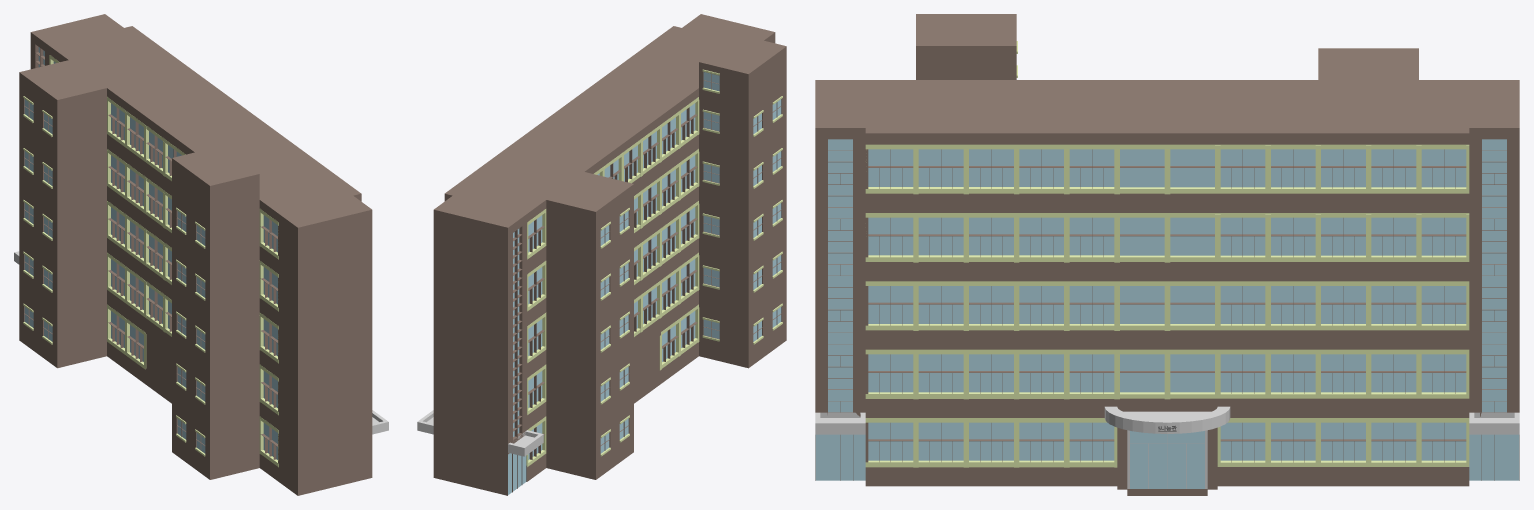
The model's file is 5building_1.glb.
3 views of the same model, side by side, from view 1: azimuth 30°, elevation 25°; view 2: azimuth 150°, elevation 25°; view 3: azimuth 270°, elevation 25° (orthographic). The views are drawn at different scales.
Visible parts, largest first — view 1: main, sidebar-1, Cube.007, Cube.018, Cube.067, 후면창문, sidebar-2, Cube.048, Cube.059, Cube.040; view 2: main, sidebar-2, Cube.007, Cube.018, Cube.067, 후면창문, Cube.049, Cube.059, Cube.048, sidebar-1, Cube.040, Cube.038 (+3 smaller); view 3: main, 전면창문, Cube.068, sidebar-1, sidebar-2, Cube.007, Cube.027, Cube.065, Cube.018, Cylinder, Cube.029, Cube.011 (+6 smaller).
Boxes of the visible parts, <box> form: main: <box>49,26,361,481</box>; sidebar-1: <box>279,196,372,495</box>; Cube.007: <box>172,146,259,479</box>; Cube.018: <box>19,60,106,368</box>; Cube.067: <box>49,55,278,467</box>; 후면창문: <box>53,61,277,459</box>; sidebar-2: <box>30,14,123,69</box>; Cube.048: <box>177,211,205,453</box>; Cube.059: <box>24,99,52,341</box>; Cube.040: <box>176,207,205,456</box>; main: <box>444,26,728,481</box>; sidebar-2: <box>433,196,527,495</box>; Cube.007: <box>699,34,786,368</box>; Cube.018: <box>546,172,633,479</box>; Cube.067: <box>526,97,699,466</box>; 후면창문: <box>528,103,695,459</box>; Cube.049: <box>703,72,719,338</box>; Cube.059: <box>600,211,628,453</box>; Cube.048: <box>753,99,781,341</box>; sidebar-1: <box>682,14,775,43</box>; Cube.040: <box>753,96,782,344</box>; Cube.038: <box>513,228,519,436</box>; main: <box>865,80,1469,486</box>; 전면창문: <box>868,149,1466,460</box>; Cube.068: <box>865,144,1469,467</box>; sidebar-1: <box>815,80,865,480</box>; sidebar-2: <box>1469,80,1519,480</box>; Cube.007: <box>916,14,1016,79</box>; Cube.027: <box>828,139,852,366</box>; Cube.065: <box>1482,139,1506,366</box>; Cube.018: <box>1318,48,1418,79</box>; Cylinder: <box>1104,406,1230,433</box>; Cube.029: <box>815,434,865,480</box>; Cube.011: <box>1469,434,1519,480</box>.
Size of the model in its own units: 95.6 by 170 by 280.
